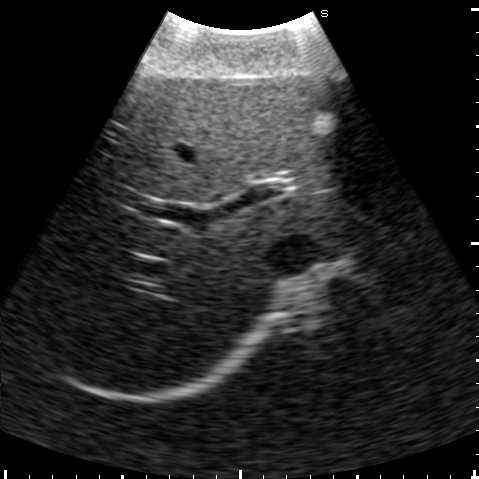IVC: (264, 237, 324, 276)
S1: (238, 197, 363, 249)
S2: (326, 180, 427, 224)
S3: (265, 73, 405, 191)
S4: (125, 76, 321, 203)
Tumor: (312, 115, 336, 135)
